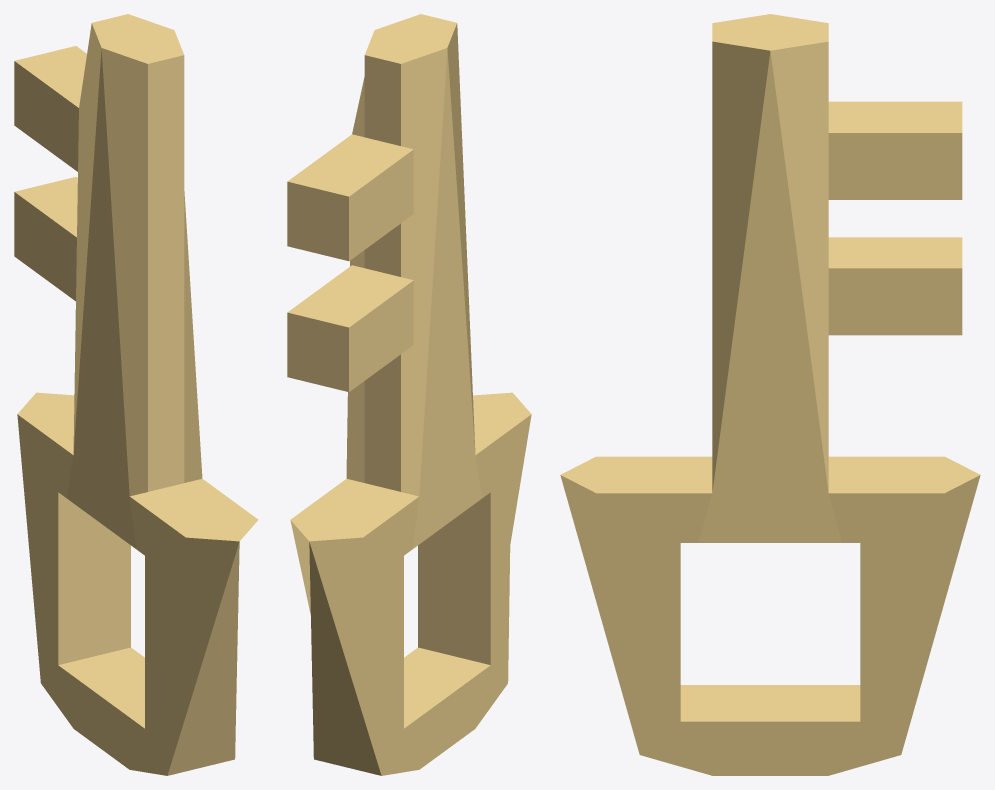
Rendered from key.fbx.
3 views of the same model, side by side, from view 1: azimuth 30°, elevation 25°; view 2: azimuth 150°, elevation 25°; view 3: azimuth 270°, elevation 25° (orthographic). The views are drawn at different scales.
Parts seen in each view (by area): view 1: key; view 2: key; view 3: key.
Part boxes in pixels (x1,y1,x2,y2): key: (14, 14, 258, 775); key: (287, 14, 531, 775); key: (560, 14, 980, 775).
Size of the model in its own units: 37.42 by 345 by 181.
1 material, 1 textured.
